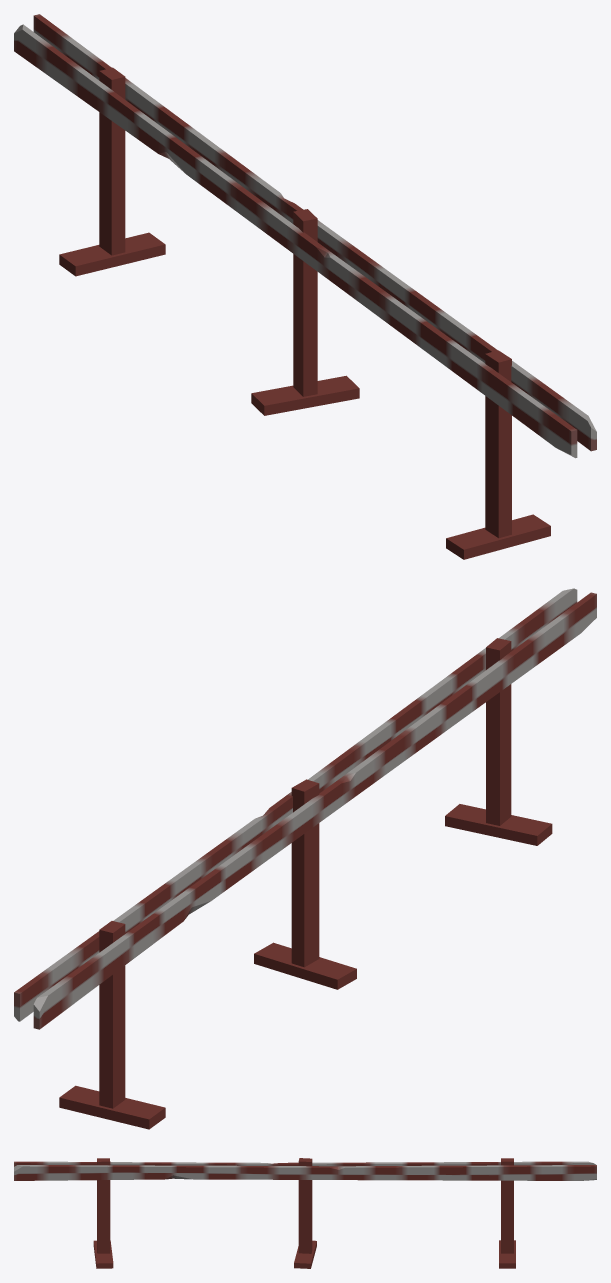
The model's file is SM_Prop_Runway_Barrier_02.fbx.
3 views of the same model, one above another, from view 1: azimuth 30°, elevation 25°; view 2: azimuth 150°, elevation 25°; view 3: azimuth 270°, elevation 25° (orthographic). The views are drawn at different scales.
Visible parts, largest first — view 1: SM_Prop_Runway_Barrier_02; view 2: SM_Prop_Runway_Barrier_02; view 3: SM_Prop_Runway_Barrier_02.
Boxes of the visible parts, <box> form: SM_Prop_Runway_Barrier_02: <box>14,14,596,559</box>; SM_Prop_Runway_Barrier_02: <box>14,588,596,1129</box>; SM_Prop_Runway_Barrier_02: <box>14,1158,596,1268</box>.
Size of the model in its own units: 103 by 198 by 1075.
